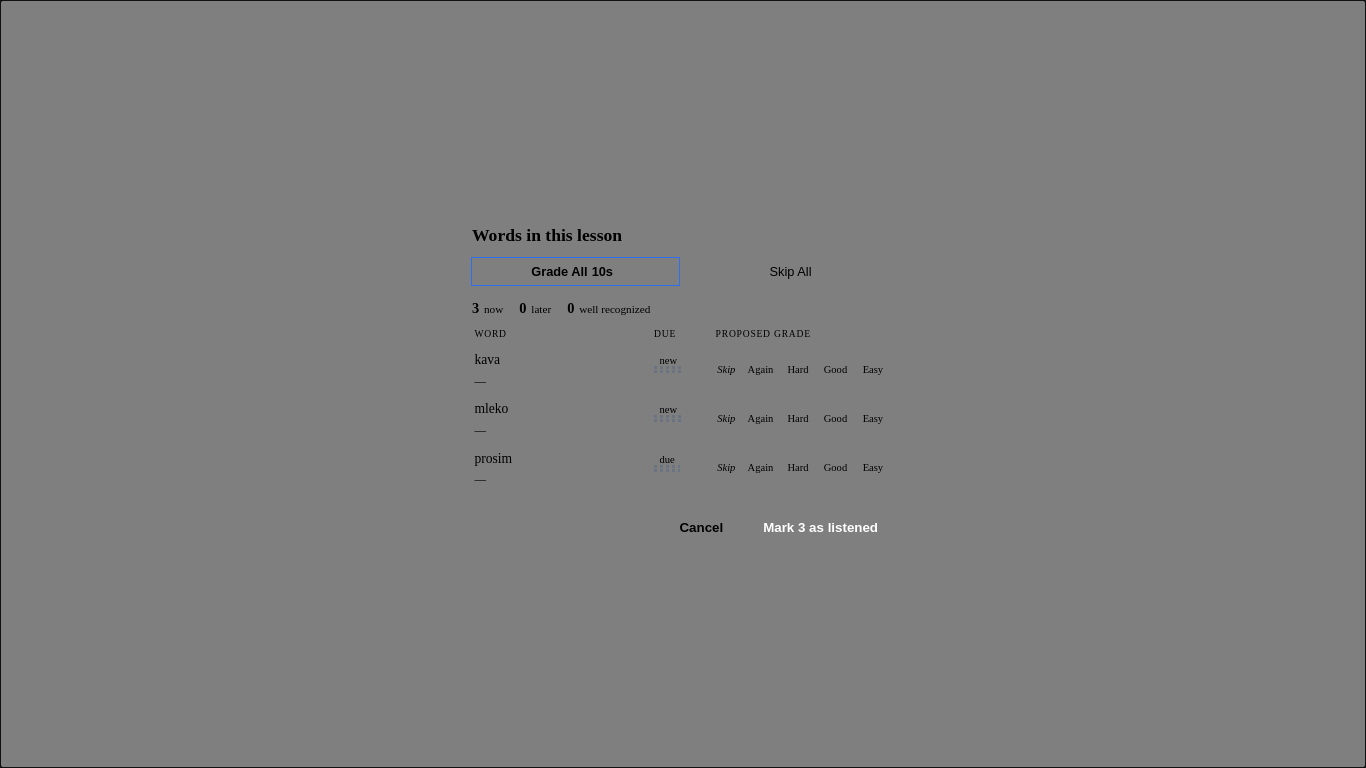
Scenario: ListenPreviewModal › Skip then Good on a row updates the Mark count both ways
Check: the button "Mark 3 as listened" is shown, box 747,512 -> 894,543
Click the button "Skip" in the row of "kava": (726, 369) 716,350 -> 737,388
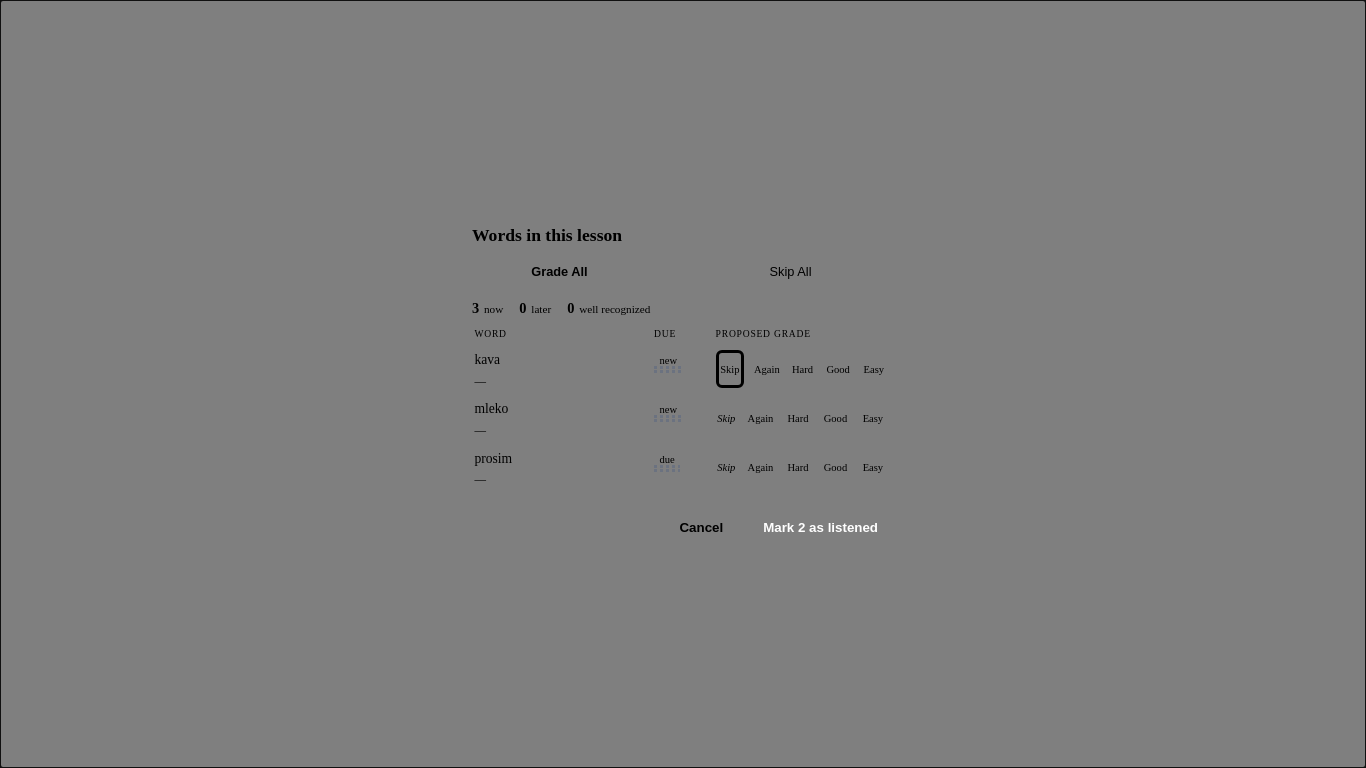
Check: the button "Mark 2 as listened" is shown, box 747,512 -> 894,543
Click the button "Good" in the row of "kava": (838, 369) 820,350 -> 856,388
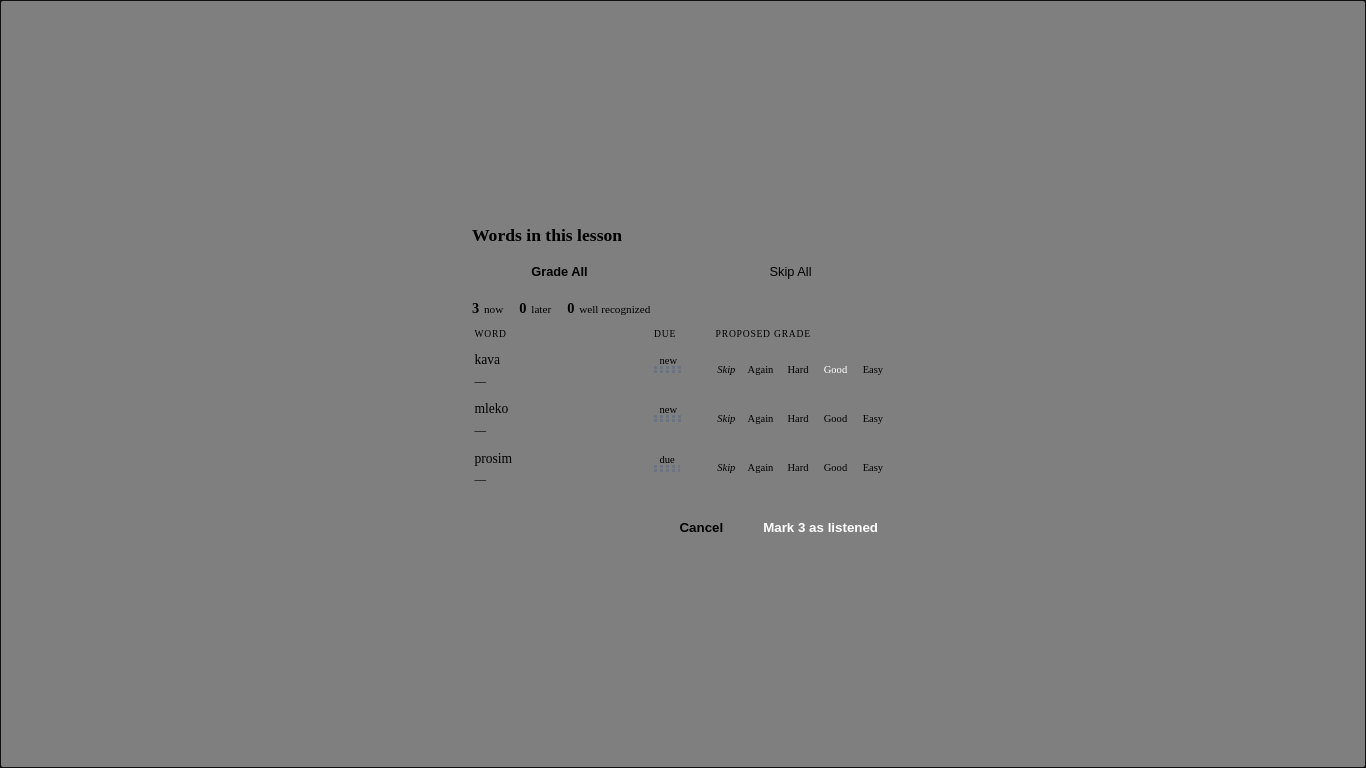
Check: the button "Mark 3 as listened" is shown, box 747,512 -> 894,543
